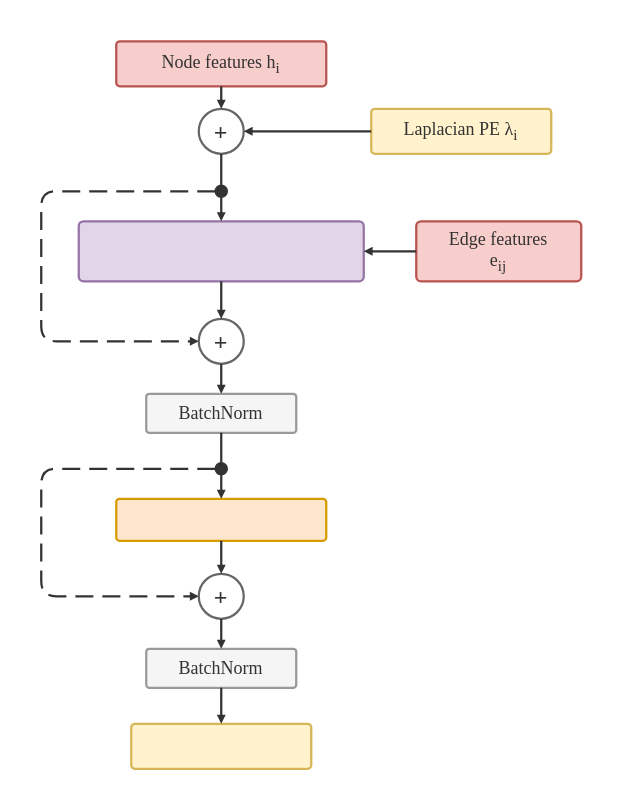
Image size: 621x809. Some labels were removed from this diagram. Here are the shapes that lost their labels. From the top down, the box of each, then its label:
(77, 219, 364, 282): Multi-Head Attention (over neighbours j ∈ N(i))
(114, 497, 327, 541): FFN
(129, 722, 312, 769): h′ i
